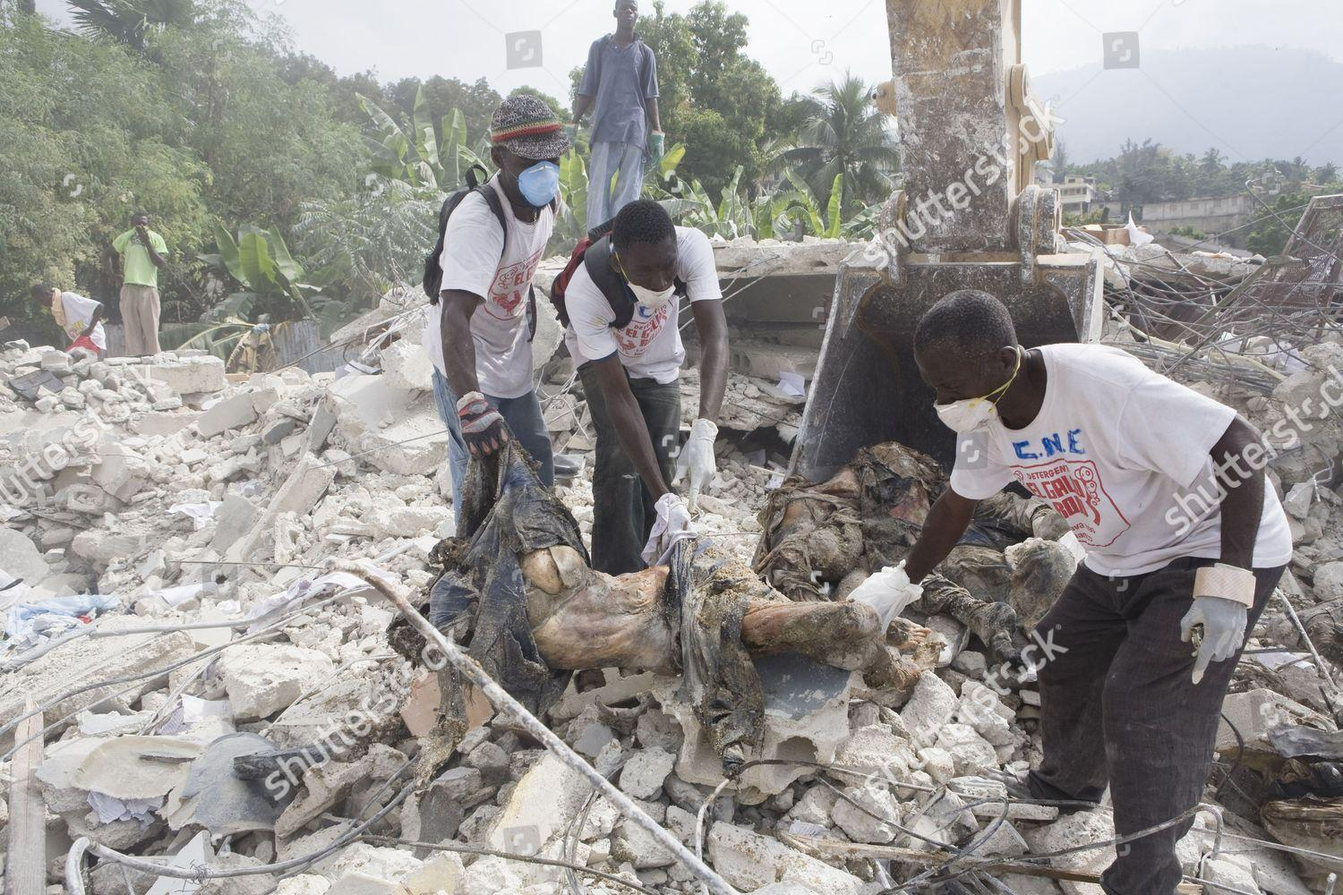victim: (891, 293, 1300, 890), (415, 80, 575, 555), (560, 195, 739, 588)
